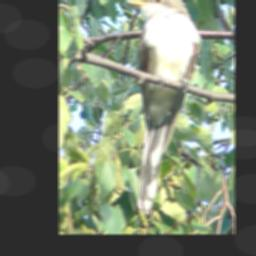Cuckoo: (125, 0, 200, 216)
